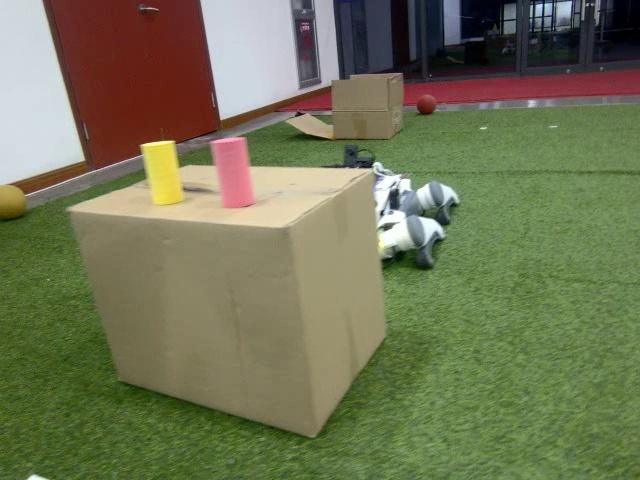red_cylinder: (208, 134, 259, 209)
yellow_ball: (0, 180, 28, 220)
yellow_cylinder: (136, 136, 186, 208)
